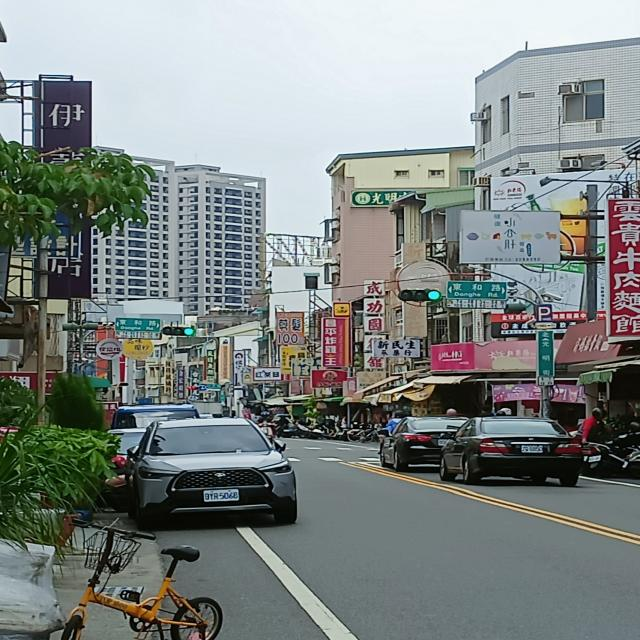license-plate: (204, 489, 244, 502), (520, 444, 545, 454)
